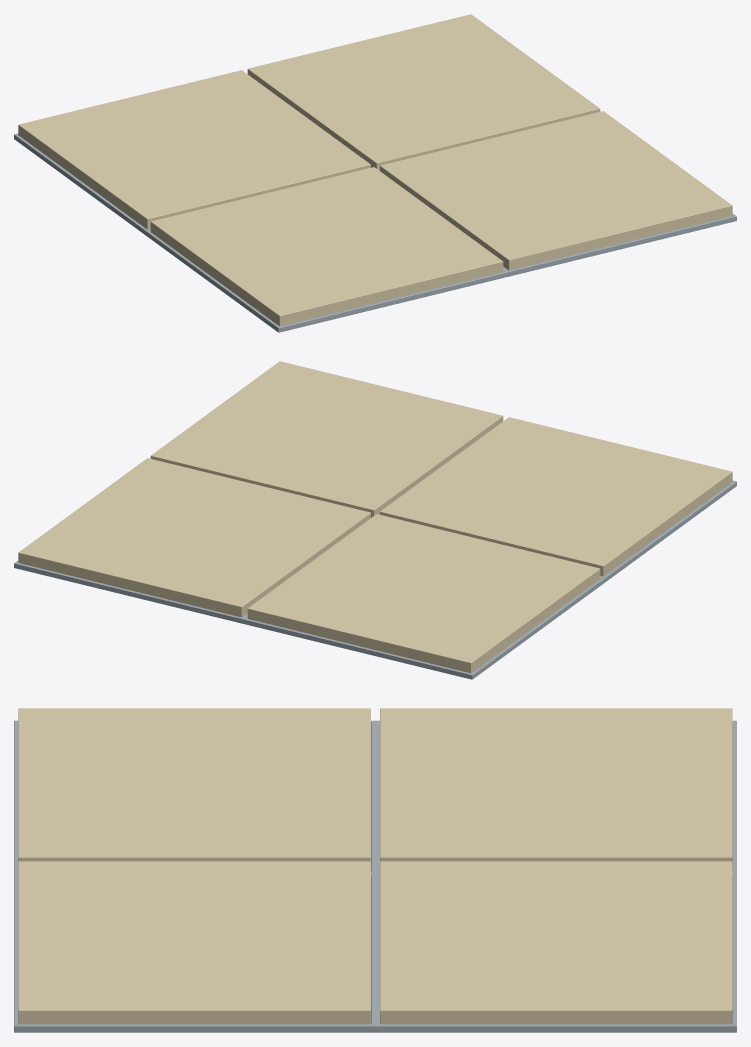
The model's file is b21_ceiling_suspended_grid_2m.glb.
3 views of the same model, one above another, from view 1: azimuth 30°, elevation 25°; view 2: azimuth 150°, elevation 25°; view 3: azimuth 270°, elevation 25° (orthographic). The views are drawn at different scales.
Parts seen in each view (by area): view 1: b21_ceiling_suspended_grid_2m; view 2: b21_ceiling_suspended_grid_2m; view 3: b21_ceiling_suspended_grid_2m.
Boxes of the visible parts, x1=… form: b21_ceiling_suspended_grid_2m: x1=14, y1=14, x2=736, y2=332; b21_ceiling_suspended_grid_2m: x1=14, y1=361, x2=736, y2=679; b21_ceiling_suspended_grid_2m: x1=14, y1=708, x2=736, y2=1032.
Bounding box in the file's own units: 2 × 0.063 × 2.
